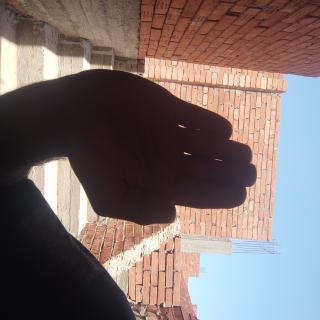SEEN: (46, 78, 173, 320)
